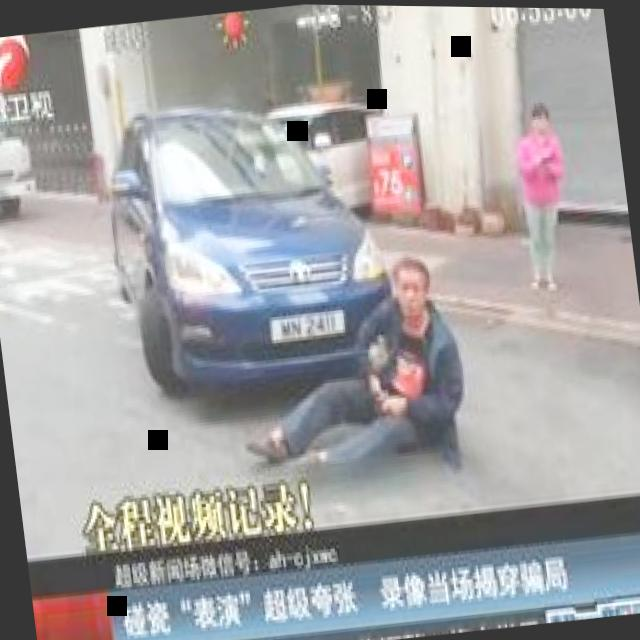Fall-Detected: (213, 231, 483, 476)
